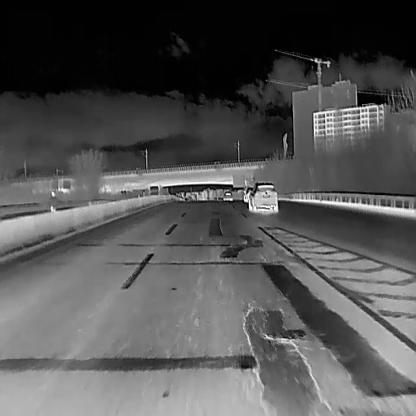car: (246, 182, 277, 211), (148, 185, 170, 199), (243, 186, 253, 202), (222, 190, 233, 200)
